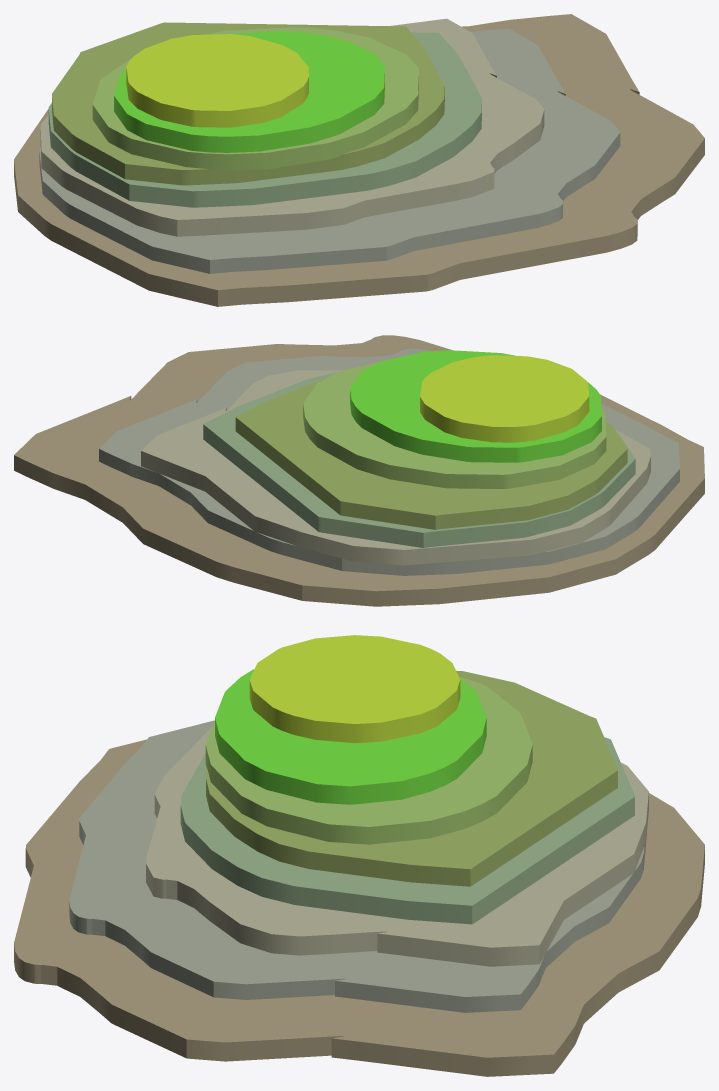
The model's file is island.fbx.
The picture shows the model from 3 angles, top to bottom: view 1: azimuth 30°, elevation 25°; view 2: azimuth 150°, elevation 25°; view 3: azimuth 270°, elevation 25°; orthographic projection. The views are drawn at different scales.
Visible parts, largest first — view 1: nurbsToPoly9; view 2: nurbsToPoly9; view 3: nurbsToPoly9.
Part boxes in pixels (bbox=[...]): nurbsToPoly9: bbox=[14, 14, 704, 306]; nurbsToPoly9: bbox=[14, 335, 704, 606]; nurbsToPoly9: bbox=[14, 635, 704, 1076].
Size of the model in its own units: 7.66 by 1.55 by 6.56.
